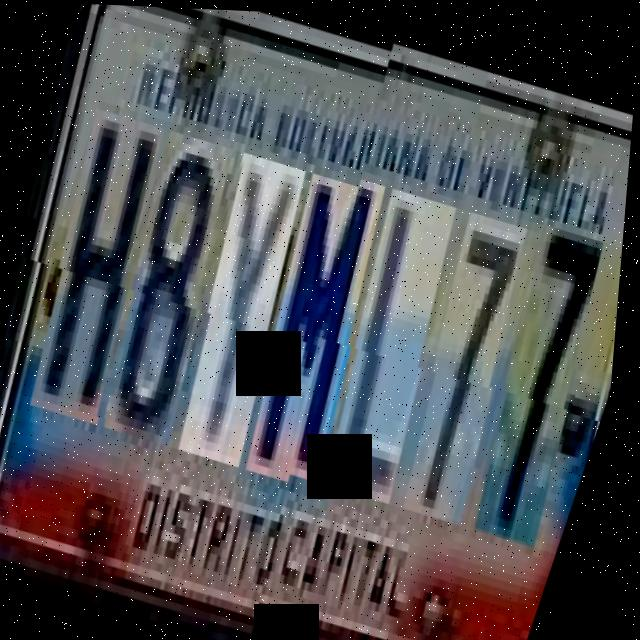7: (452, 217, 627, 541), (382, 205, 552, 520)
8: (83, 119, 261, 436)
H: (9, 97, 189, 416)
L: (303, 182, 481, 500)
M: (225, 160, 410, 480)
Y: (158, 141, 332, 457)
